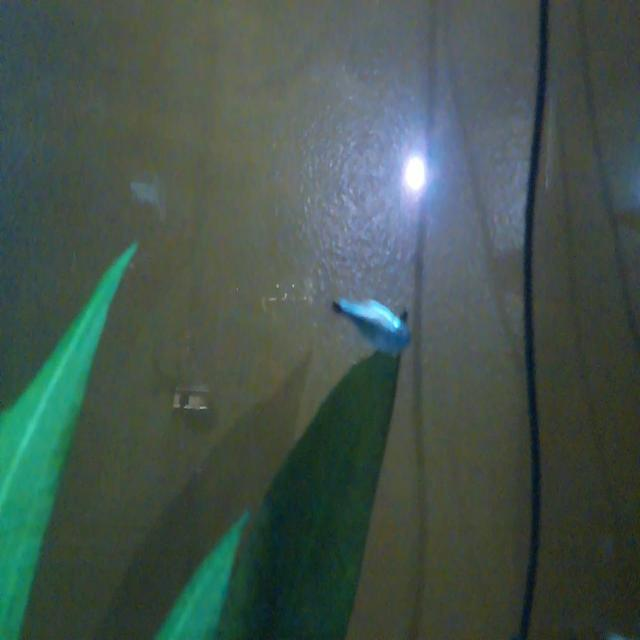fish: (331, 288, 416, 362)
